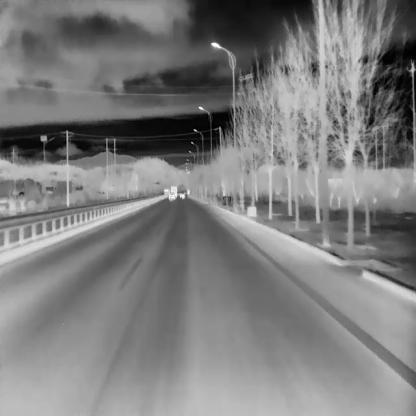car: (170, 186, 177, 198), (168, 191, 176, 200), (179, 191, 184, 197)
